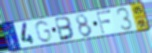3: (116, 7, 134, 32)
4: (20, 22, 37, 47)
8: (75, 13, 94, 38)
B: (54, 16, 76, 42)
F: (96, 9, 113, 35)
G: (34, 20, 54, 44)
